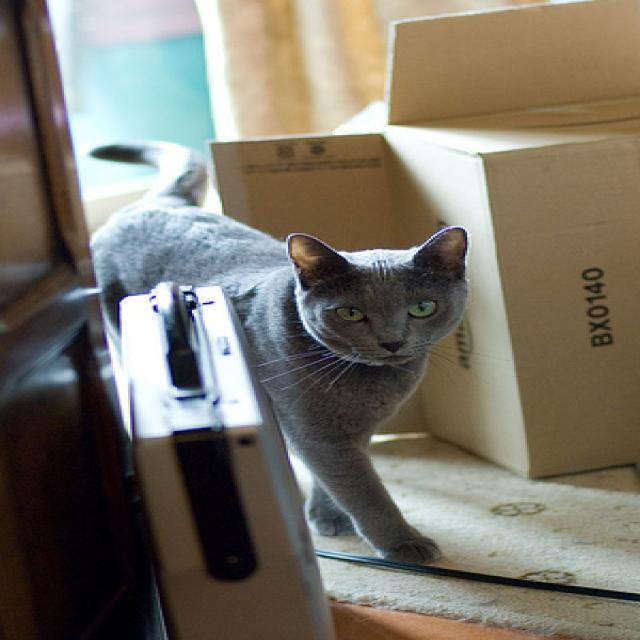Russian Blue: (76, 136, 478, 569)
